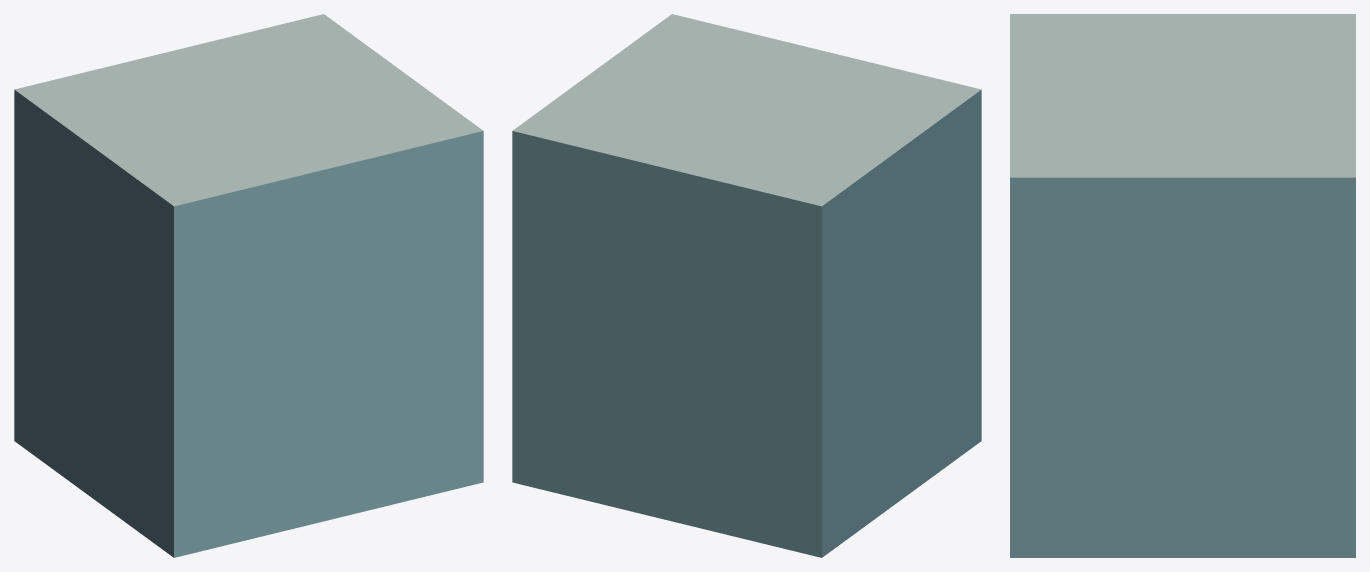
File: ICE_BLOCK.shadow.glb
3 views of the same model, side by side, from view 1: azimuth 30°, elevation 25°; view 2: azimuth 150°, elevation 25°; view 3: azimuth 270°, elevation 25° (orthographic). The views are drawn at different scales.
Visible parts, largest first — view 1: Body_Mesh; view 2: Body_Mesh; view 3: Body_Mesh.
Part boxes in pixels (x1,y1,x2,y2): Body_Mesh: (14,14,483,557); Body_Mesh: (512,14,981,557); Body_Mesh: (1010,14,1355,557).
Bounding box in the file's own units: 0.94 × 1.02 × 0.84.
